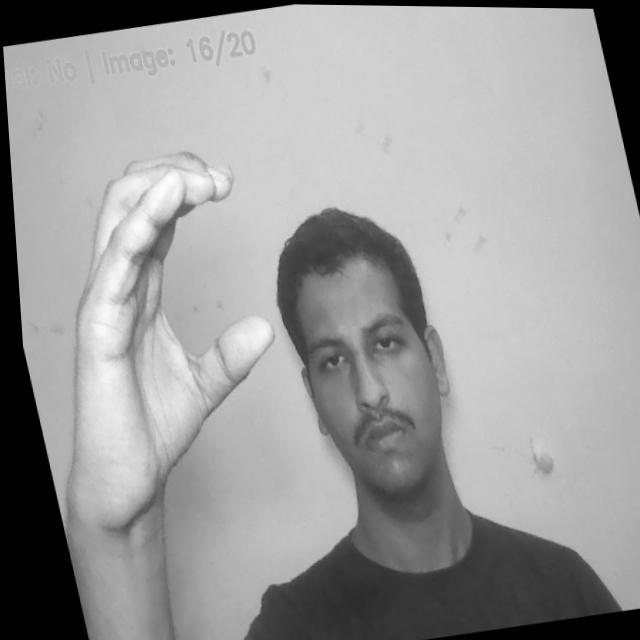No: (7, 143, 307, 583)
